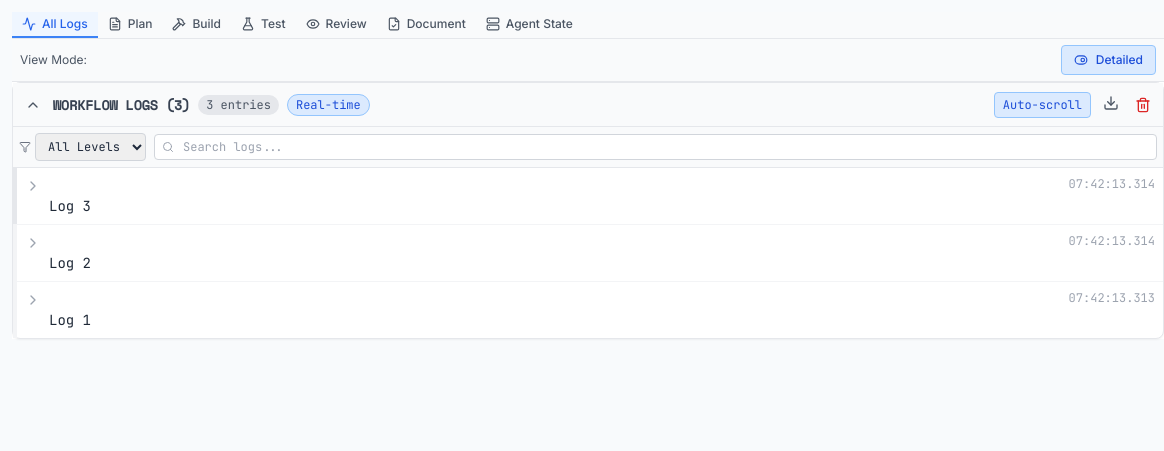
Scenario: StageLogsViewer Component › Detailed View Toggle › should toggle detailed view when clicked
The width and height of the screenshot is (1164, 451).
Click the button "Detailed": (1108, 60) [1061,45,1156,75]
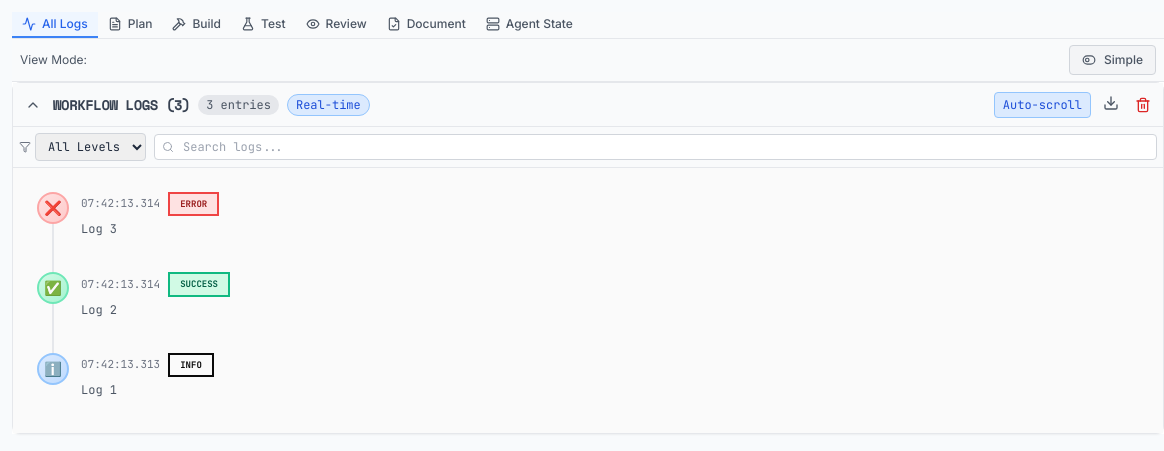
Expected: the text "Simple" is shown, [1104,52,1143,68]
